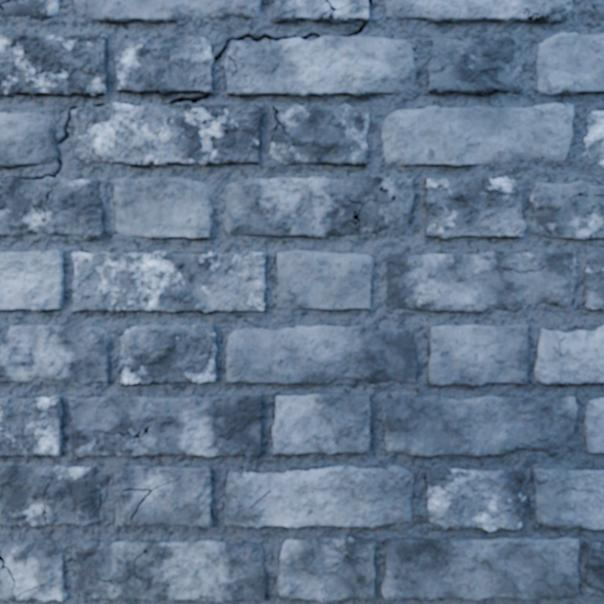brick: (382, 538, 578, 600), (72, 103, 262, 165), (382, 104, 572, 166), (73, 251, 265, 312), (69, 396, 261, 457), (382, 396, 576, 456), (225, 466, 413, 527), (225, 37, 415, 97), (77, 541, 266, 601), (224, 177, 413, 237), (387, 251, 576, 311), (226, 325, 416, 383), (0, 34, 107, 96), (0, 177, 104, 240), (0, 325, 109, 384), (277, 536, 374, 601), (427, 467, 525, 530), (425, 177, 525, 238), (115, 466, 212, 527), (0, 466, 100, 525), (429, 325, 527, 385), (270, 104, 368, 164), (273, 393, 370, 453), (114, 178, 211, 238), (118, 324, 216, 383), (277, 251, 373, 309), (117, 36, 212, 93), (428, 37, 521, 95), (530, 180, 603, 239), (534, 469, 603, 529), (537, 33, 603, 95), (75, 0, 261, 22), (0, 539, 66, 600), (386, 0, 566, 22), (535, 326, 603, 383), (0, 396, 62, 457), (0, 250, 63, 310), (0, 113, 56, 167), (273, 0, 328, 21), (0, 0, 59, 19), (584, 255, 603, 310), (585, 541, 603, 596), (585, 111, 603, 166), (585, 399, 603, 452), (330, 0, 368, 21), (537, 0, 571, 22), (0, 569, 12, 599), (585, 0, 603, 19), (322, 13, 332, 21), (486, 90, 494, 94)
crack: (15, 105, 78, 180), (213, 33, 296, 77), (0, 555, 43, 601), (521, 0, 570, 20), (27, 482, 49, 525), (318, 0, 355, 21), (271, 105, 293, 140), (165, 93, 210, 105), (338, 20, 367, 37), (0, 0, 25, 10), (342, 554, 373, 562), (301, 32, 320, 40), (482, 86, 498, 94), (93, 103, 105, 107), (367, 0, 372, 7)
